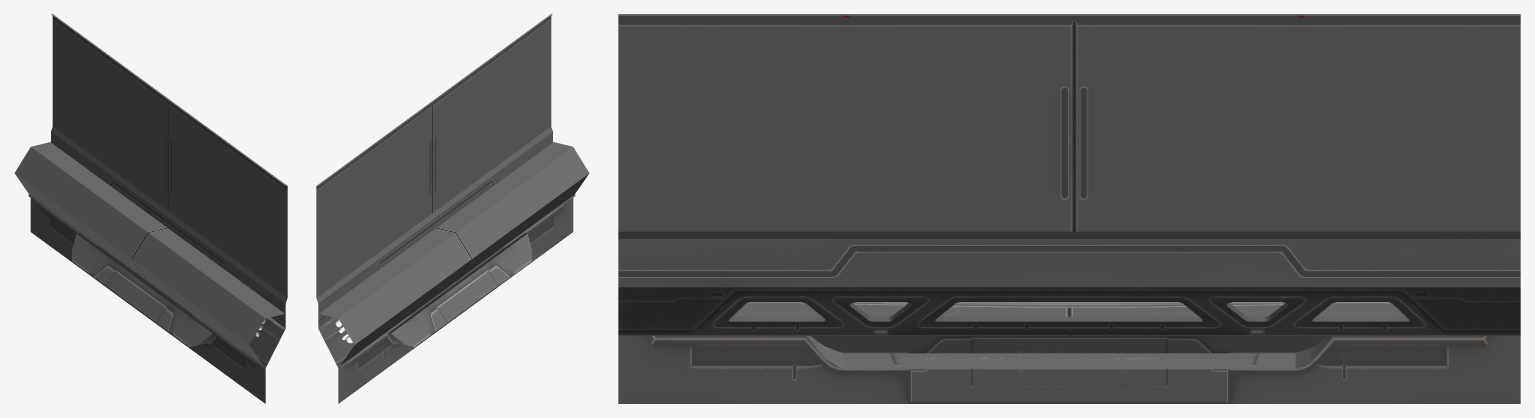
File: TopCables_Straight.gltf
3 renders of one model, left to right at view 1: azimuth 30°, elevation 25°; view 2: azimuth 150°, elevation 25°; view 3: azimuth 270°, elevation 25°, orthographic. The views are drawn at different scales.
Parts seen in each view (by area): view 1: TopCables_Straight; view 2: TopCables_Straight; view 3: TopCables_Straight.
Part boxes in pixels (x1,y1,x2,y2): TopCables_Straight: (14,14,287,403); TopCables_Straight: (316,14,589,403); TopCables_Straight: (618,14,1520,403).
Bounding box in the file's own units: 0.3839 × 2 × 4.
4 materials, 3 textured.
